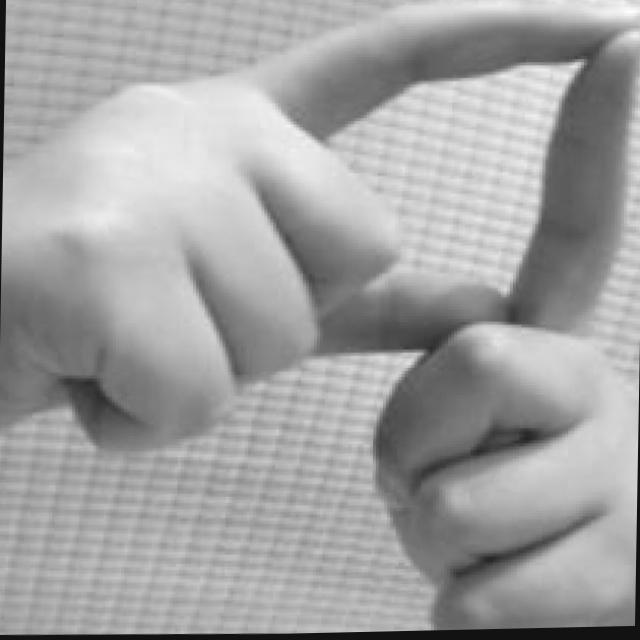D: (255, 0, 640, 506)
